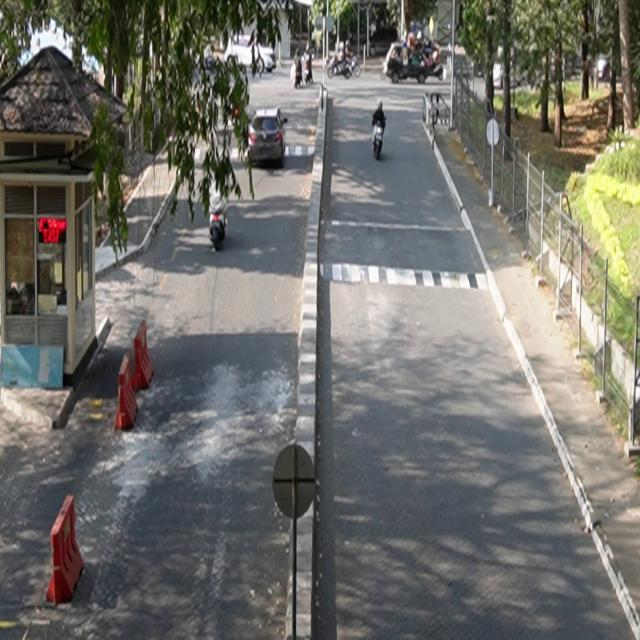car: (249, 108, 289, 169)
